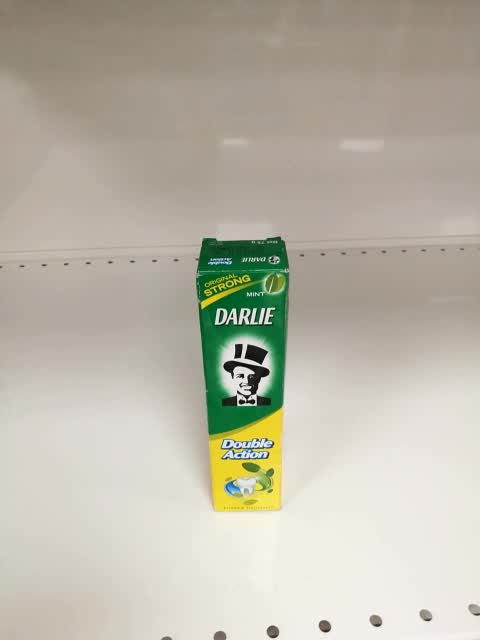toothpaste: (194, 237, 290, 514)
